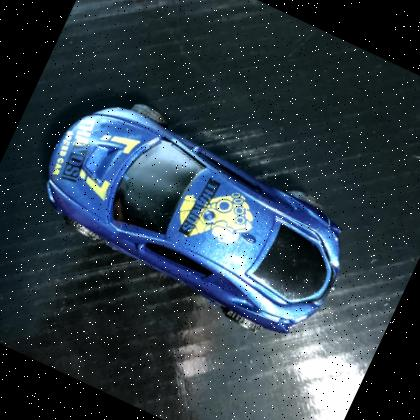Car: (7, 69, 377, 363)
